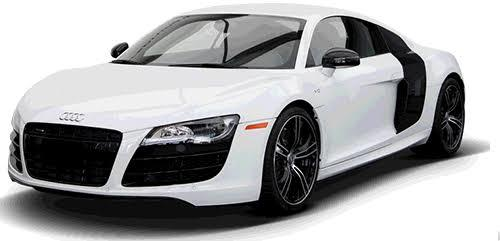audi: (8, 1, 471, 218)
